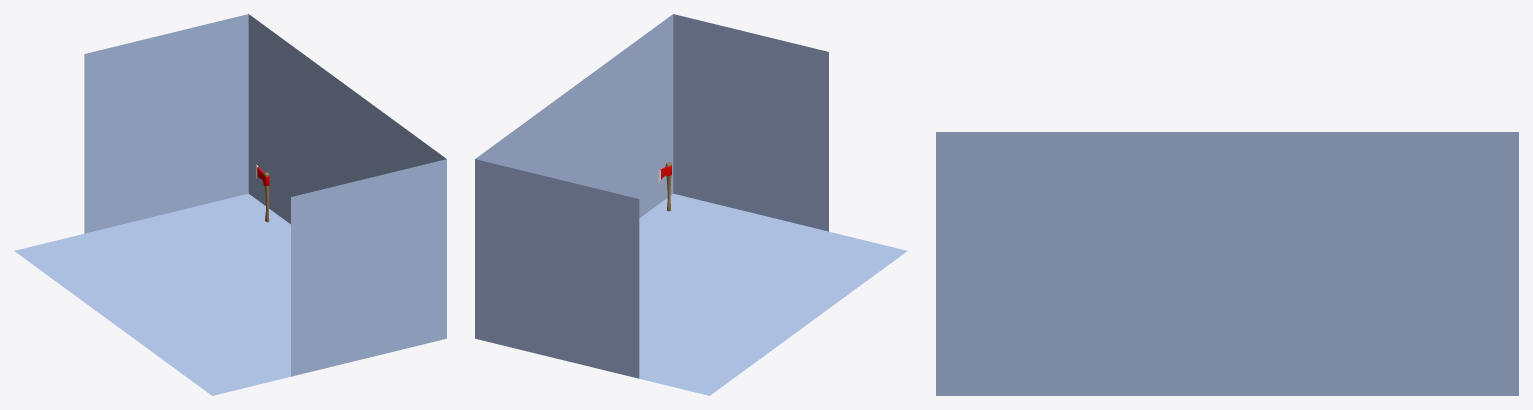
Rendered from axe.glb.
The picture shows the model from 3 angles, left to right: view 1: azimuth 30°, elevation 25°; view 2: azimuth 150°, elevation 25°; view 3: azimuth 270°, elevation 25°; orthographic projection. The views are drawn at different scales.
Parts seen in each view (by area): view 1: Plane; view 2: Plane; view 3: Plane.
Boxes of the visible parts, left/top/right/bottom form: Plane: left=14, top=14, right=446, bottom=395; Plane: left=475, top=14, right=907, bottom=395; Plane: left=936, top=132, right=1518, bottom=395.
Size of the model in its own units: 15.29 by 11.19 by 22.37.
2 materials, 1 textured.
